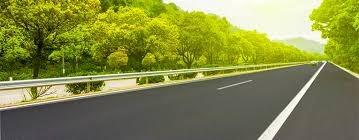road: (0, 64, 319, 138), (274, 63, 358, 138)
